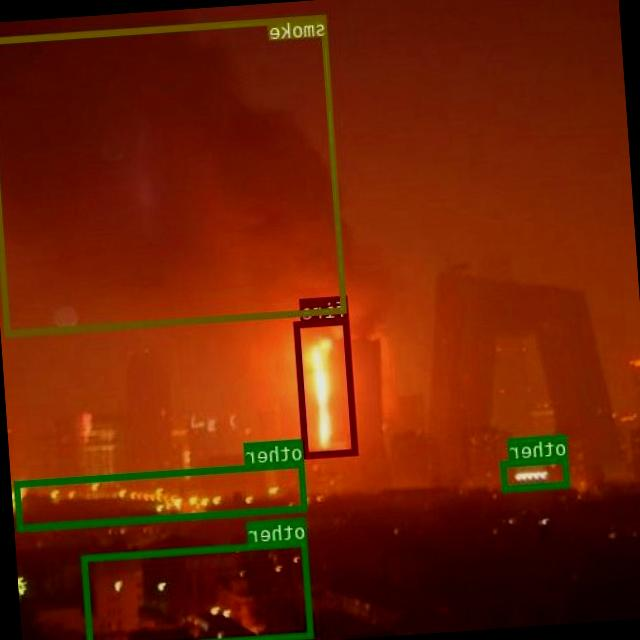fire: (295, 316, 359, 456)
smoke: (0, 12, 347, 335)
